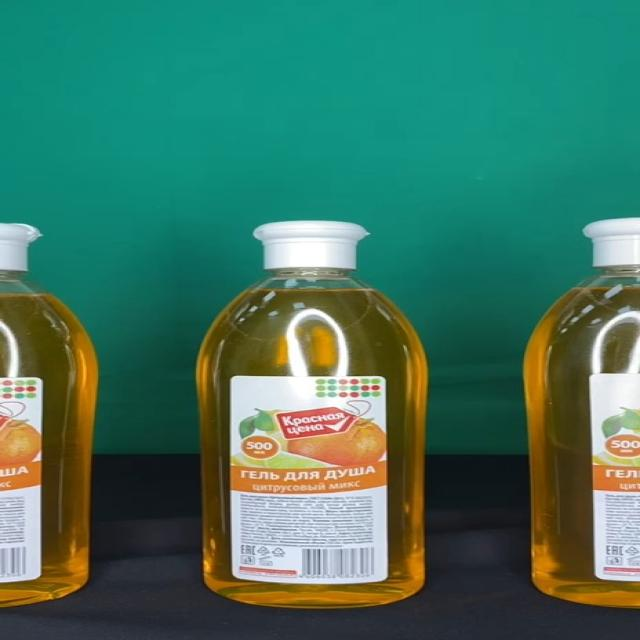Bottle: (196, 220, 428, 610)
Cap: (252, 221, 372, 268)
